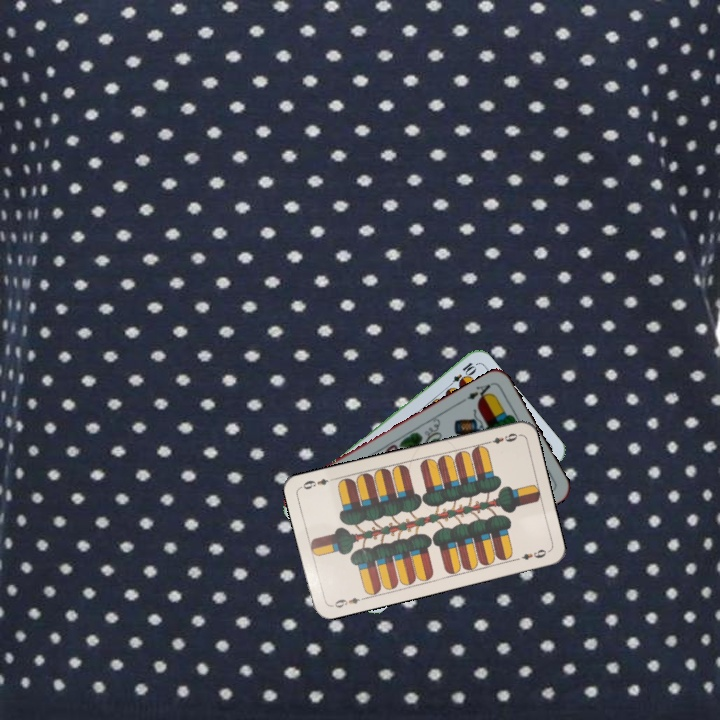E10: (443, 358, 478, 391)
E9: (481, 429, 521, 447), (327, 593, 367, 611)
EA: (463, 379, 495, 404)
